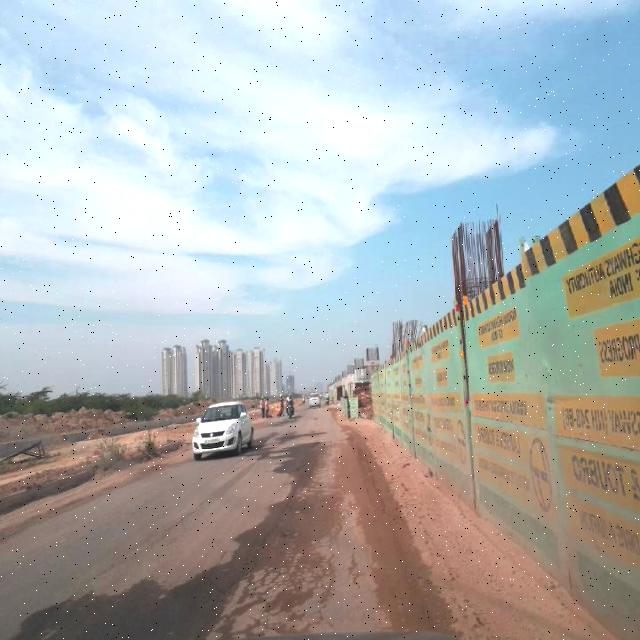D00: (200, 452, 313, 634), (135, 468, 247, 558)
D20: (204, 468, 367, 639)
